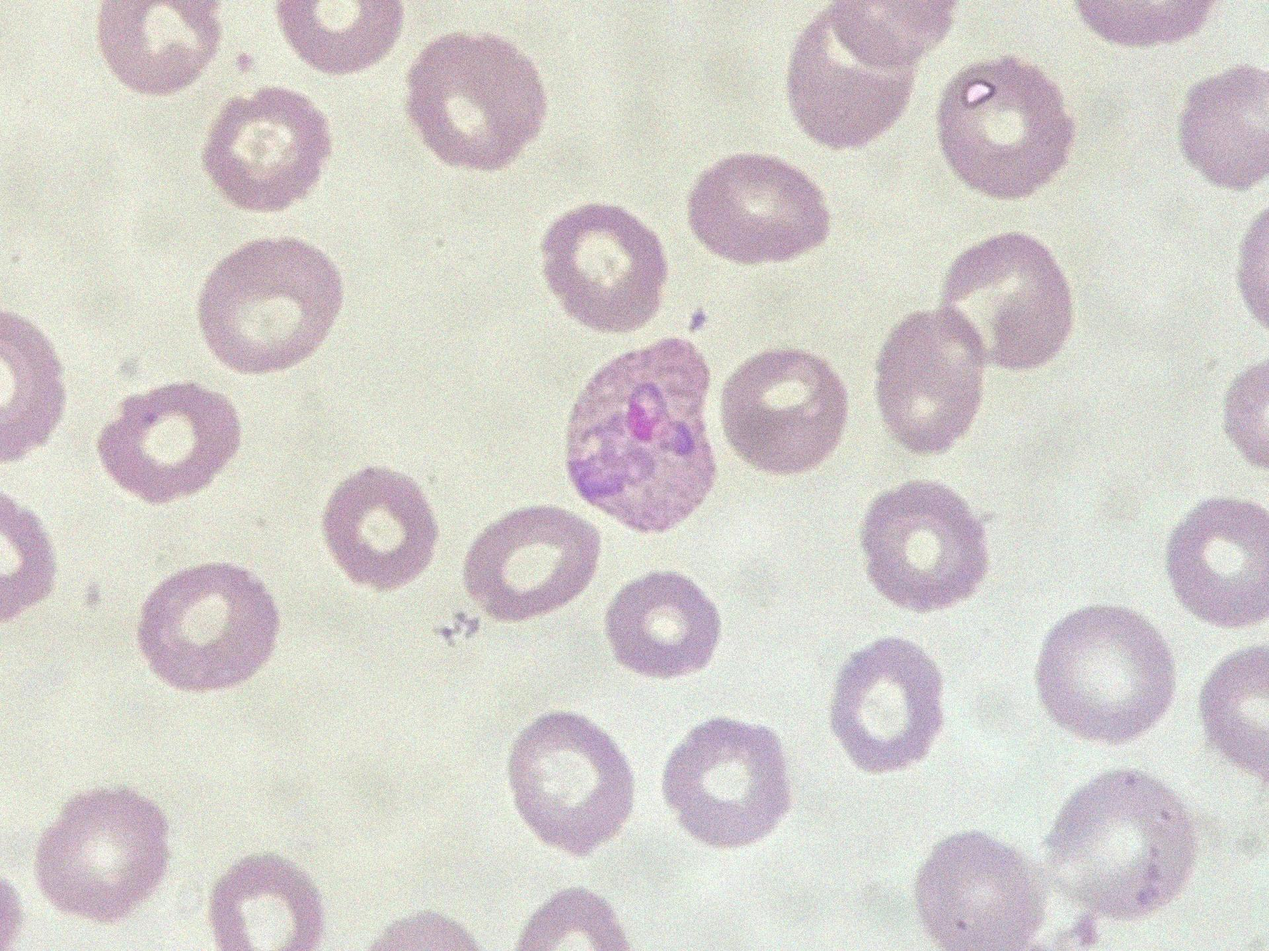Infected: (567, 331, 718, 528)
Uninfected: (1053, 770, 1197, 912), (197, 237, 342, 373), (405, 33, 548, 169), (940, 60, 1069, 201), (937, 237, 1070, 373), (137, 564, 281, 689), (511, 714, 639, 854), (1038, 610, 1176, 738), (101, 382, 240, 508), (36, 790, 166, 923), (859, 478, 983, 614), (874, 306, 989, 451), (545, 204, 676, 331), (914, 831, 1051, 951), (663, 722, 786, 854), (826, 640, 950, 770), (202, 88, 330, 212), (466, 508, 603, 620), (726, 346, 845, 472), (686, 161, 828, 266), (321, 468, 437, 595), (791, 12, 902, 144), (605, 569, 718, 680), (96, 0, 224, 97), (1172, 494, 1269, 621), (212, 856, 325, 951), (276, 0, 405, 73)
